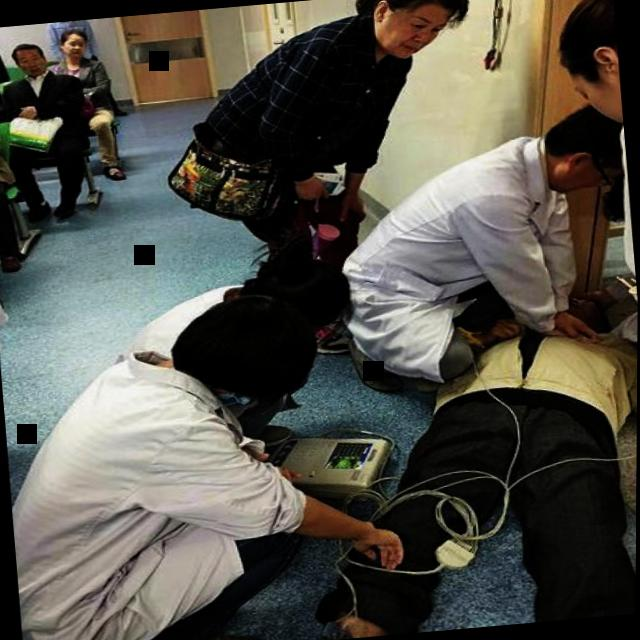Fall-Detected: (323, 262, 638, 638)
